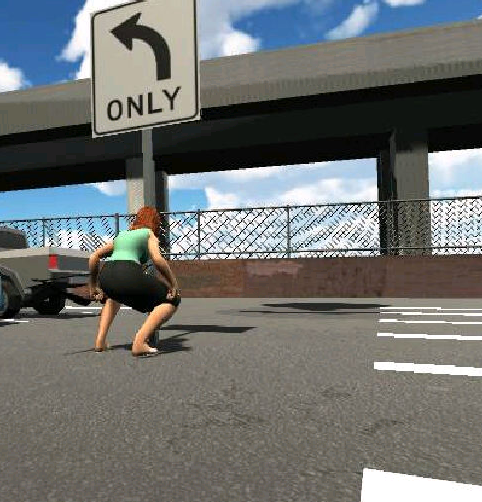arrow_left: (103, 9, 177, 84)
